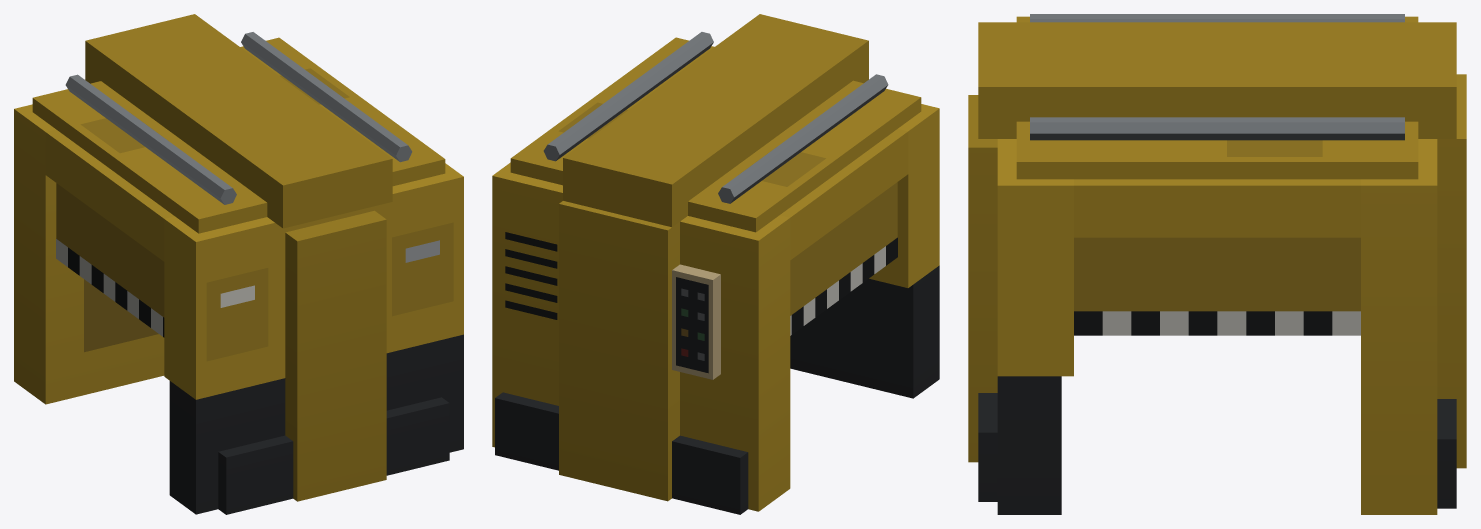
File: machine.heavy.yellow.glb
The picture shows the model from 3 angles, left to right: view 1: azimuth 30°, elevation 25°; view 2: azimuth 150°, elevation 25°; view 3: azimuth 270°, elevation 25°; orthographic projection. The views are drawn at different scales.
Parts seen in each view (by area): view 1: machine_heavy_yellow; view 2: machine_heavy_yellow; view 3: machine_heavy_yellow.
Boxes of the visible parts, x1,y1,x2,y2 form: machine_heavy_yellow: (14,14,463,514); machine_heavy_yellow: (492,14,939,514); machine_heavy_yellow: (968,14,1466,514).
Size of what is drawn, in the model's own units: 1.96 by 2.2 by 2.61.
